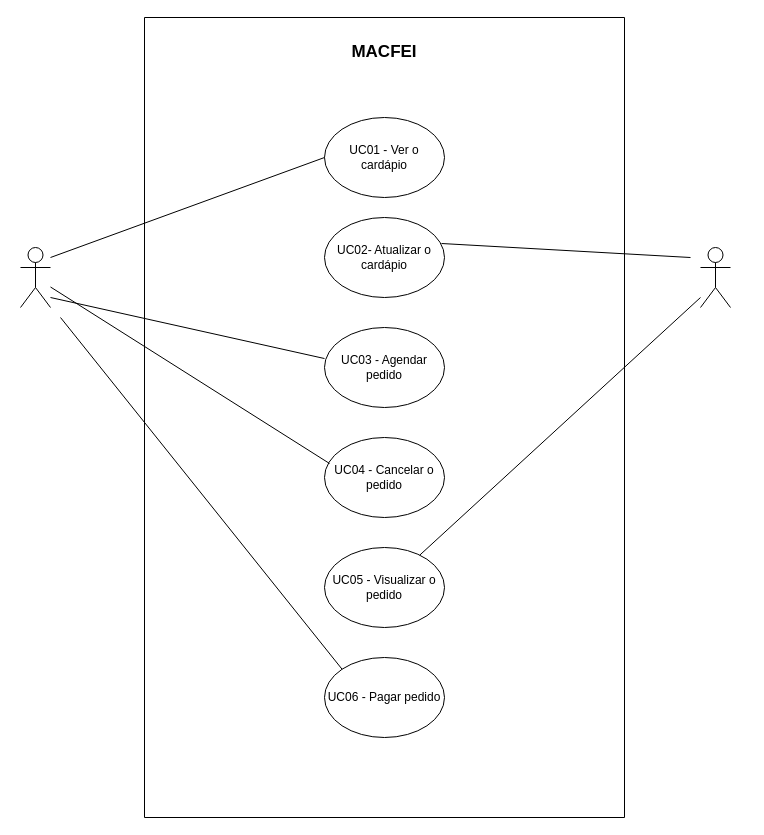
Image size: 764x835. Some labels were removed from this diagram. The shapes that lost their labels are listed below. From the top down, each one's centre as x and y in pixels, then its label:
At point (35, 277): "Cliente".
At point (715, 277): "Lanchonete".
